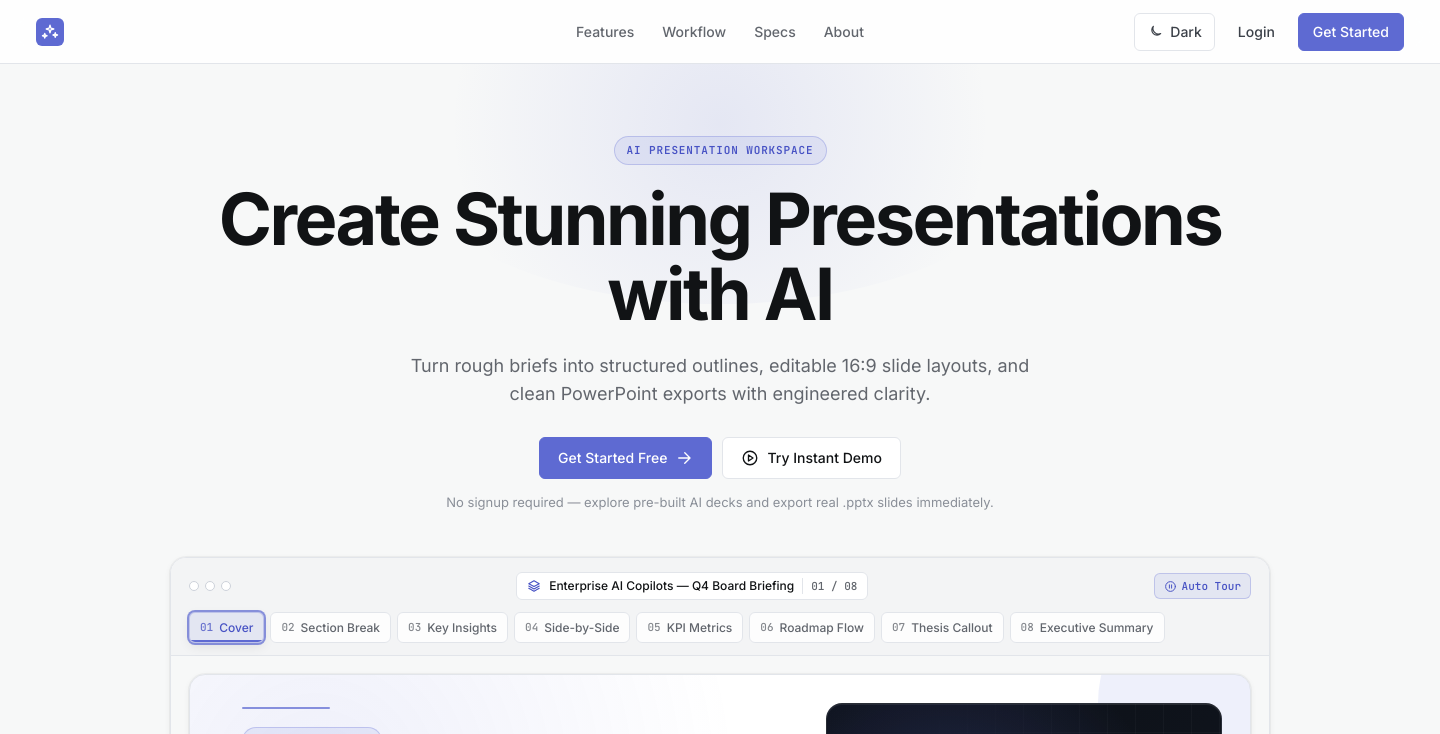
Test case: DeckAI × Open Design UI Refactor › renders interactive 5-layout HeroShowcase on LandingPage with truthful capability metrics and no fake monitor skeleton
The image size is (1440, 734).
Expected: the heading "Create Stunning Presentations" is shown, [219, 180, 1221, 332]
Press ArrowRight in the tab "01 Cover", box [189, 612, 264, 643]
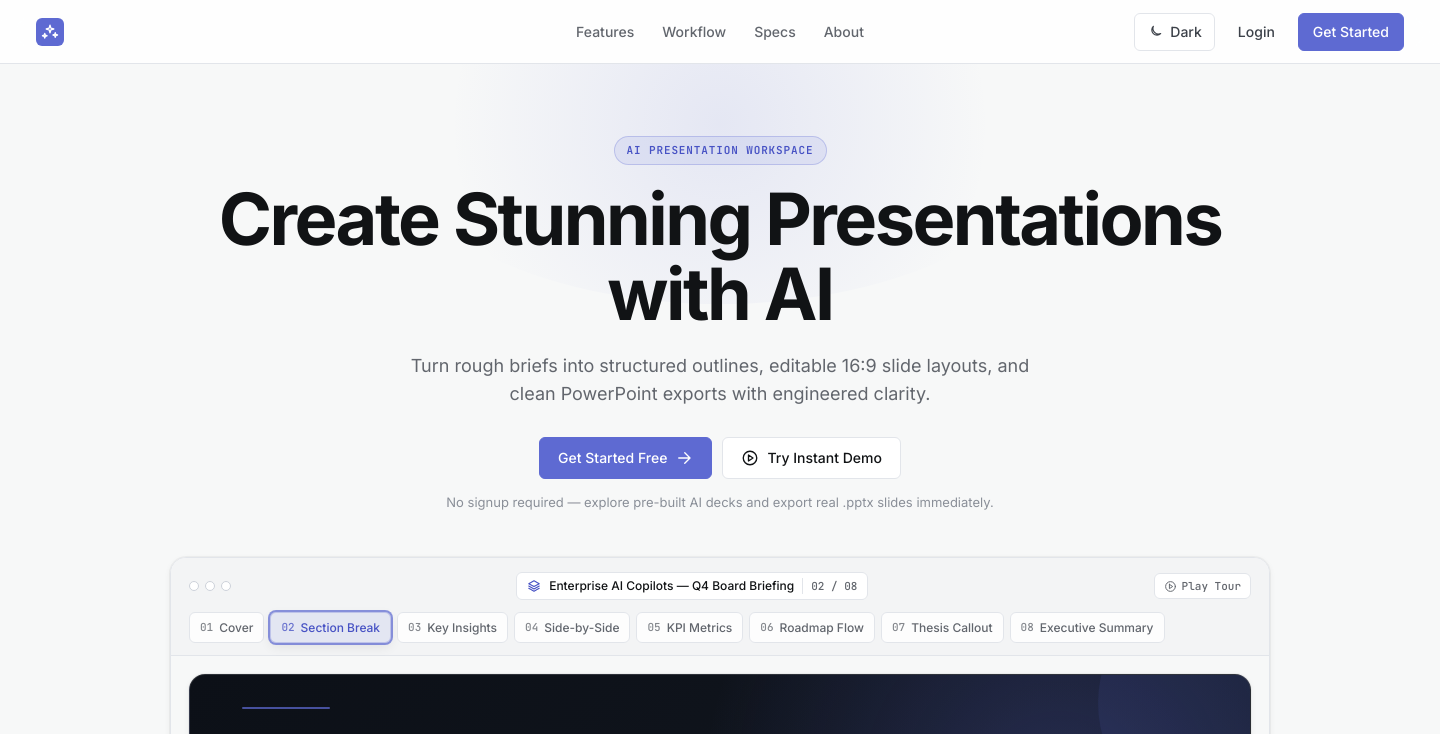
Expected: the tab "02 Section Break" is selected
Press ArrowRight in the tab "02 Section Break", box [270, 612, 391, 643]
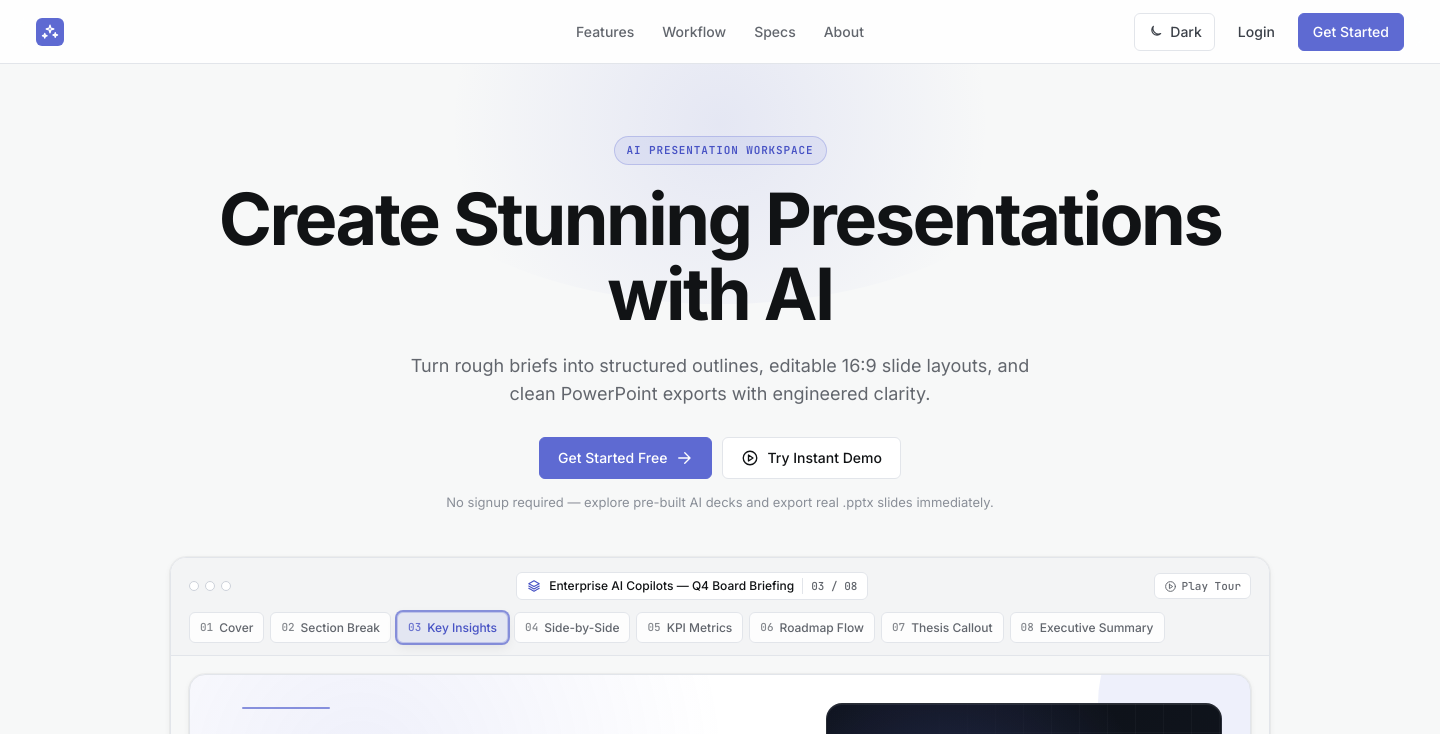
Expected: the tab "03 Key Insights" is selected
Press End in the tab "03 Key Insights", box [397, 612, 508, 643]
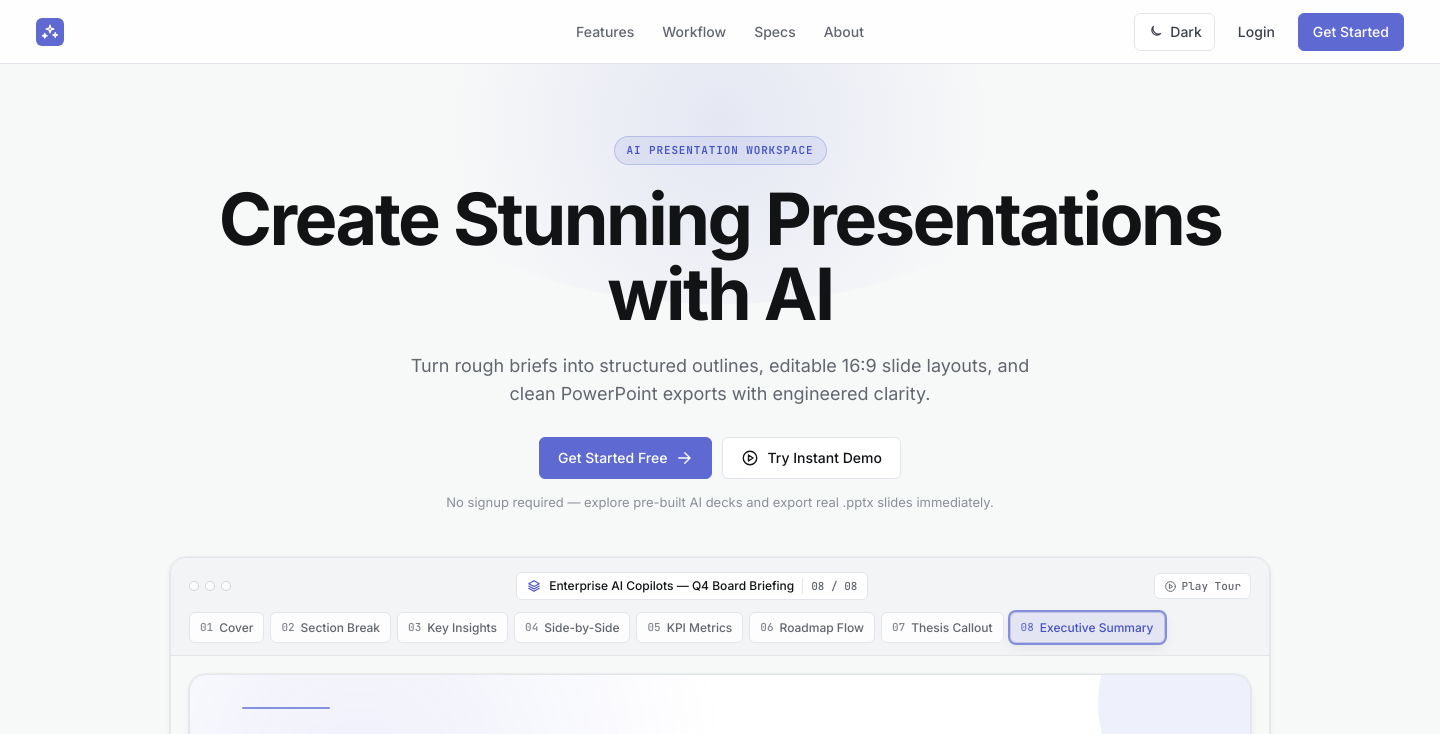
Press Home in the tab "08 Executive Summary", box [1010, 612, 1164, 643]
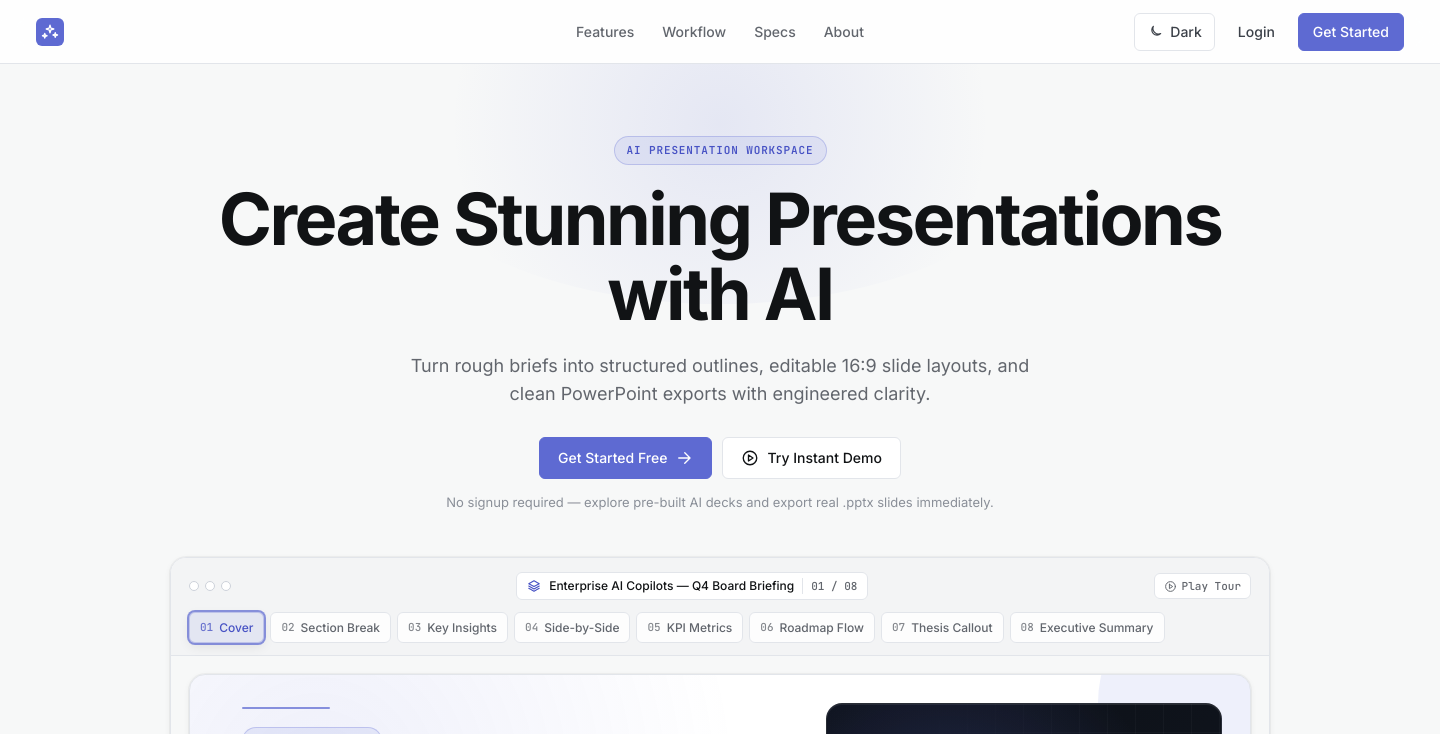
Click the tab "04 Side-by-Side". click: (572, 627)
box: [514, 612, 630, 643]
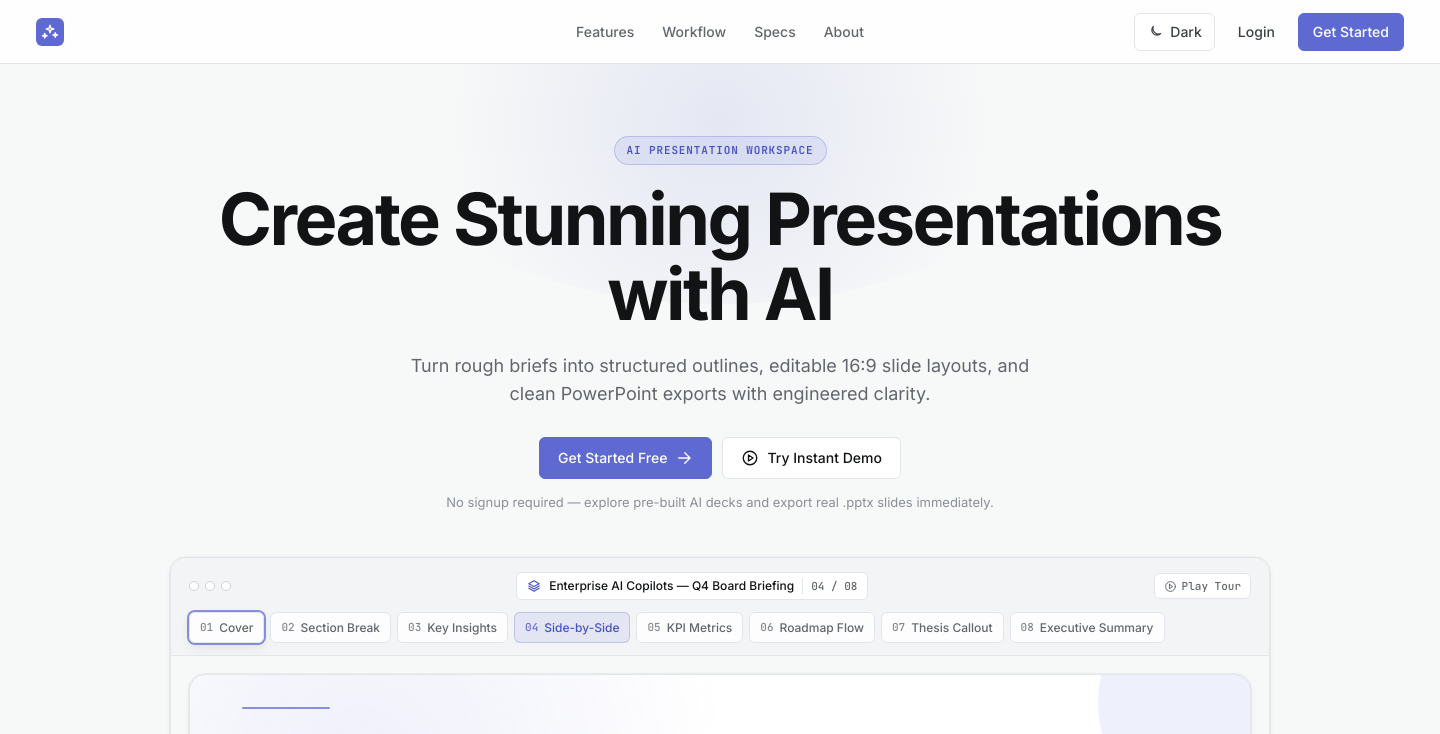
Click the tab "08 Executive Summary". click: (1087, 627)
box: [1010, 612, 1164, 643]
(page scrolled)
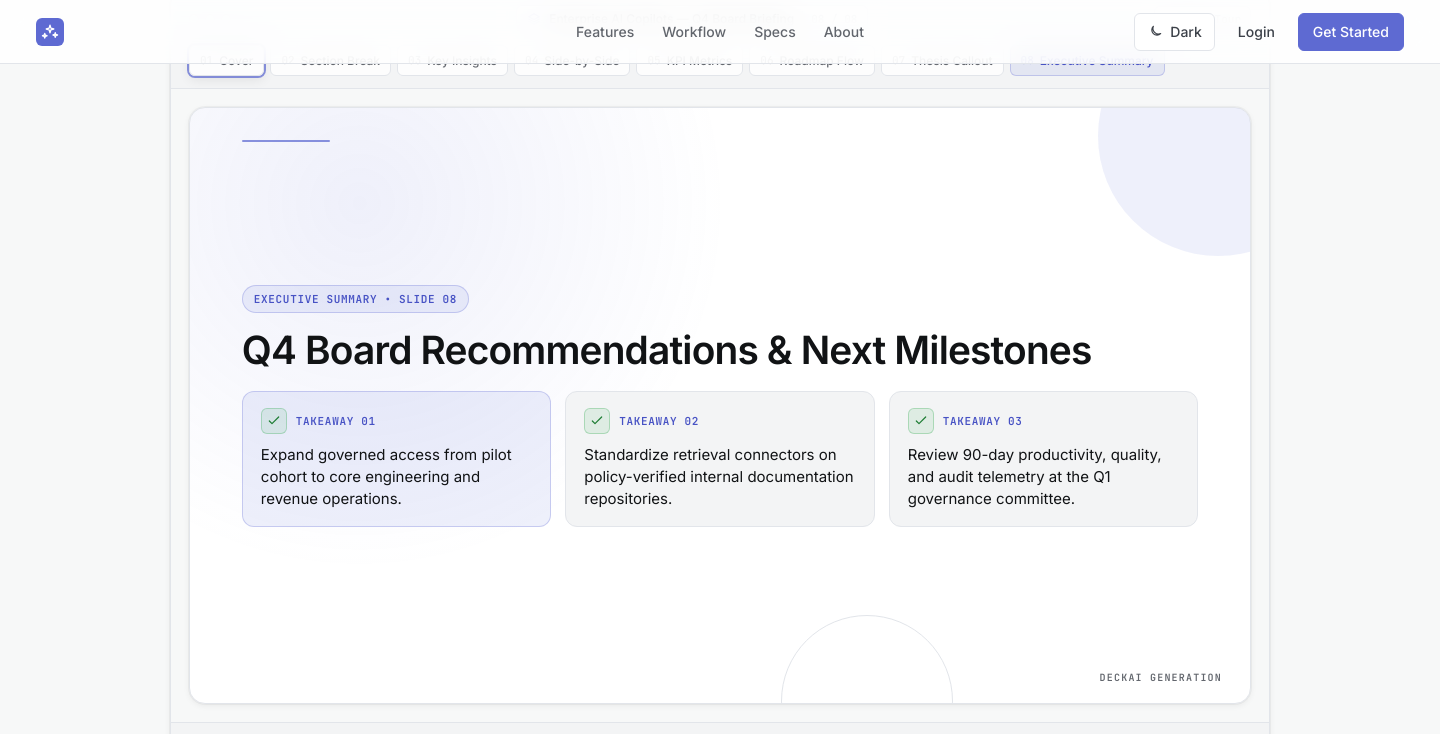
Expected: the element with class "slide-canvas--summary" is shown
